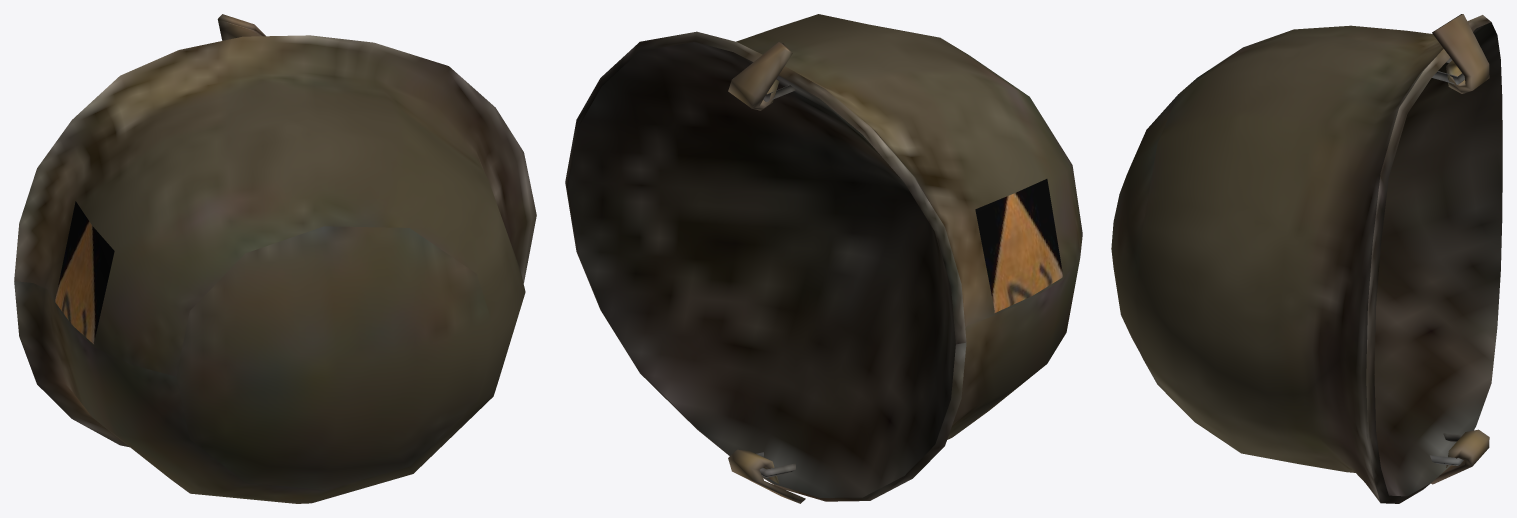
Rendered from helmet_us_ranger_braeburn.glb.
3 views of the same model, side by side, from view 1: azimuth 30°, elevation 25°; view 2: azimuth 150°, elevation 25°; view 3: azimuth 270°, elevation 25° (orthographic).
Size of the model in its own units: 11.83 by 11.05 by 8.5.
2 materials, 2 textured.
